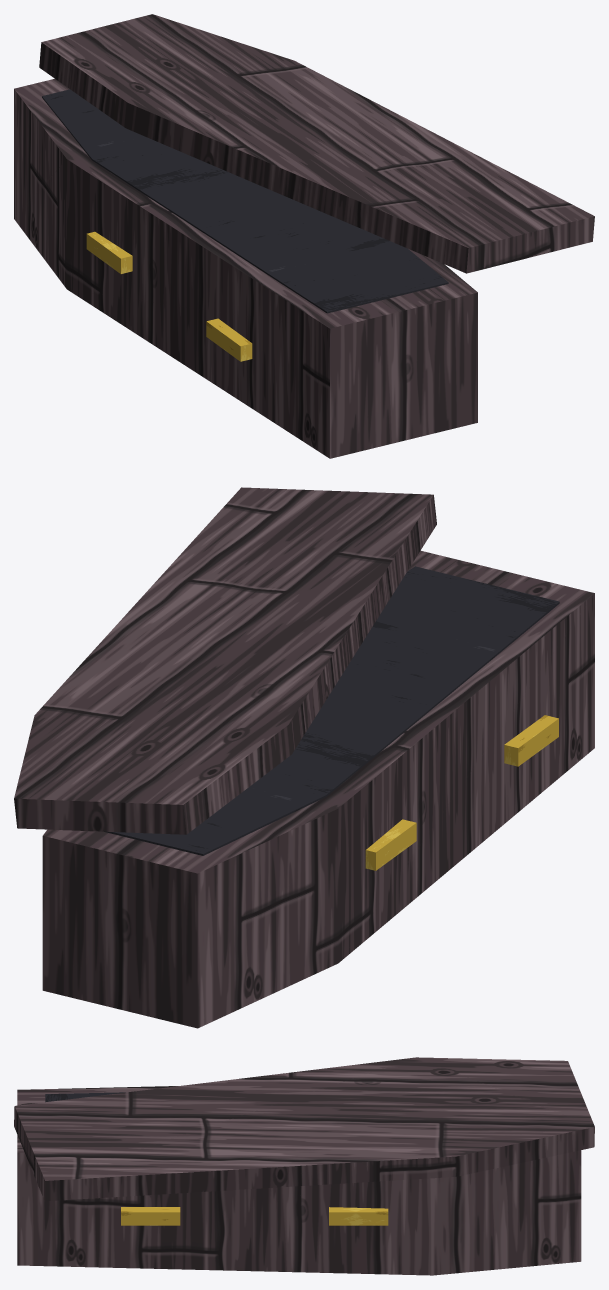
Rendered from coffin.glb.
3 renders of one model, top to bottom at view 1: azimuth 30°, elevation 25°; view 2: azimuth 150°, elevation 25°; view 3: azimuth 270°, elevation 25°, orthographic. The views are drawn at different scales.
Parts seen in each view (by area): view 1: Prop; view 2: Prop; view 3: Prop.
Boxes of the visible parts, x1,y1,x2,y2 form: Prop: [14, 14, 594, 458]; Prop: [14, 487, 594, 1028]; Prop: [14, 1057, 594, 1275].
Size of the model in its own units: 1.05 by 0.5841 by 1.96.
2 materials, 2 textured.
